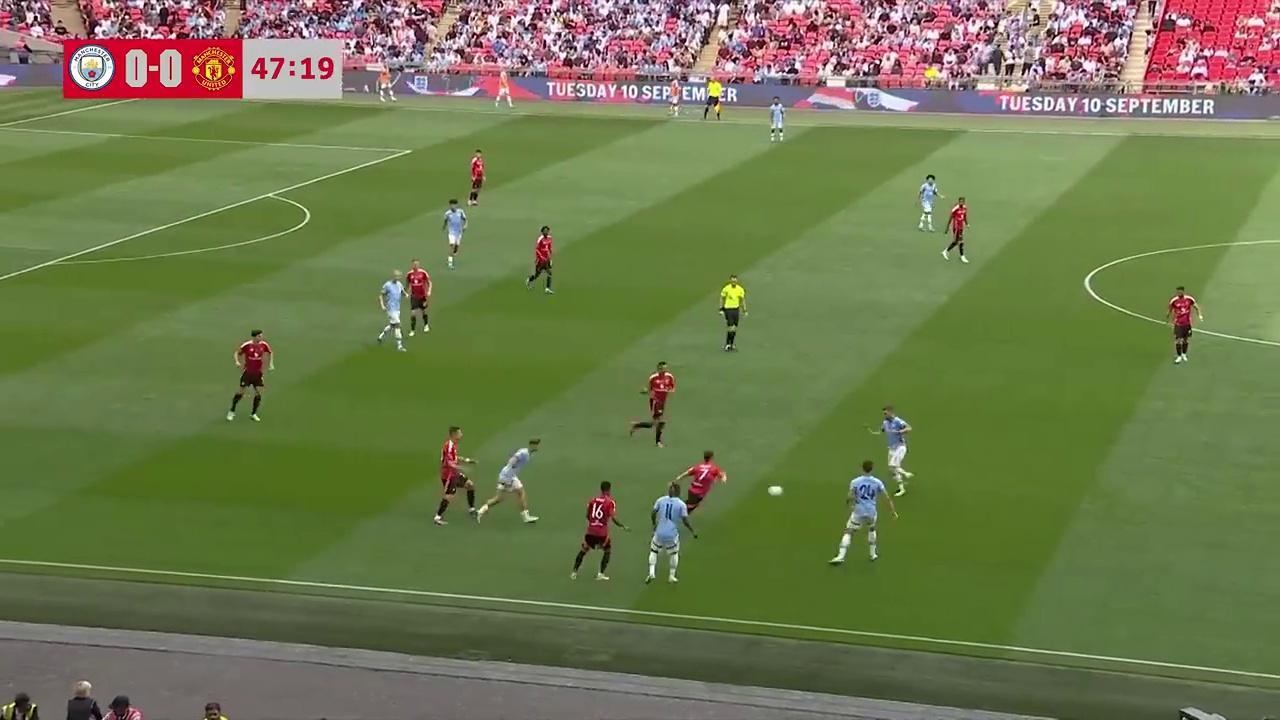ball: (765, 481, 786, 497)
player: (829, 460, 895, 565), (570, 481, 629, 581), (433, 426, 484, 526), (483, 438, 542, 524), (644, 482, 692, 585), (225, 329, 274, 421), (678, 449, 727, 527), (875, 405, 913, 499), (636, 361, 676, 446), (1165, 285, 1202, 364), (376, 269, 408, 351), (404, 259, 433, 335), (526, 226, 554, 293), (441, 198, 467, 270), (942, 196, 969, 263), (916, 174, 939, 231), (468, 150, 485, 207), (768, 98, 786, 143), (706, 82, 723, 122)
referee: (718, 274, 747, 351), (706, 82, 724, 122)
